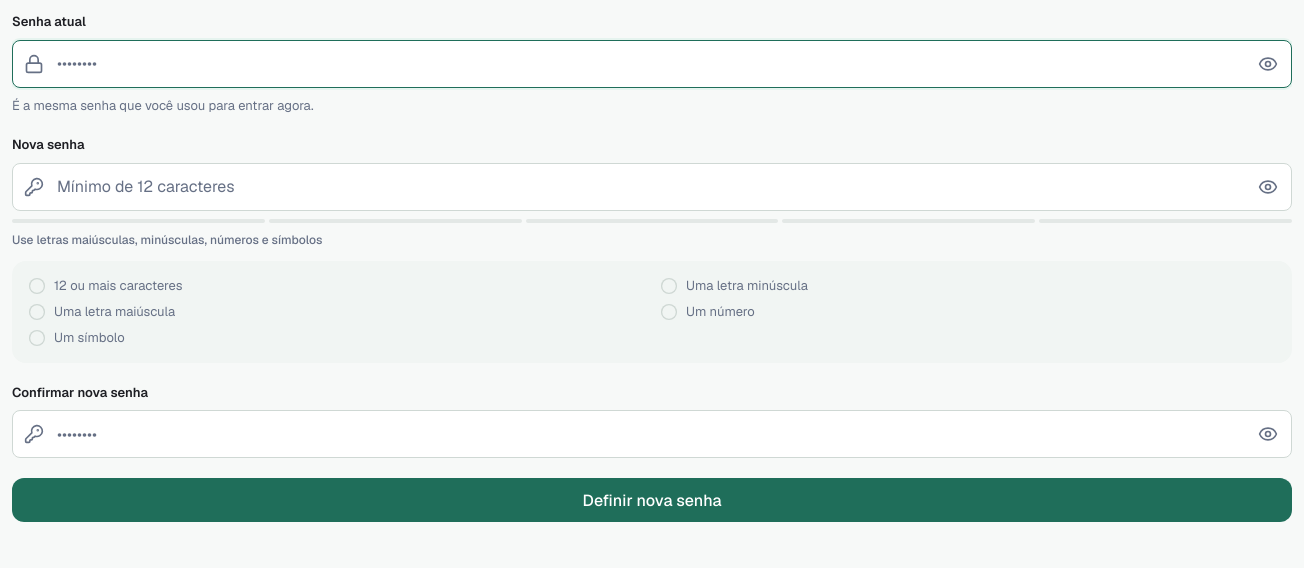
Test: ChangePasswordForm › valida que a confirmação coincide
The image size is (1304, 568).
Type "80275@Suoac" into the password field labelled "Senha atual". click: x=652, y=64
box: [12,40,1292,88]
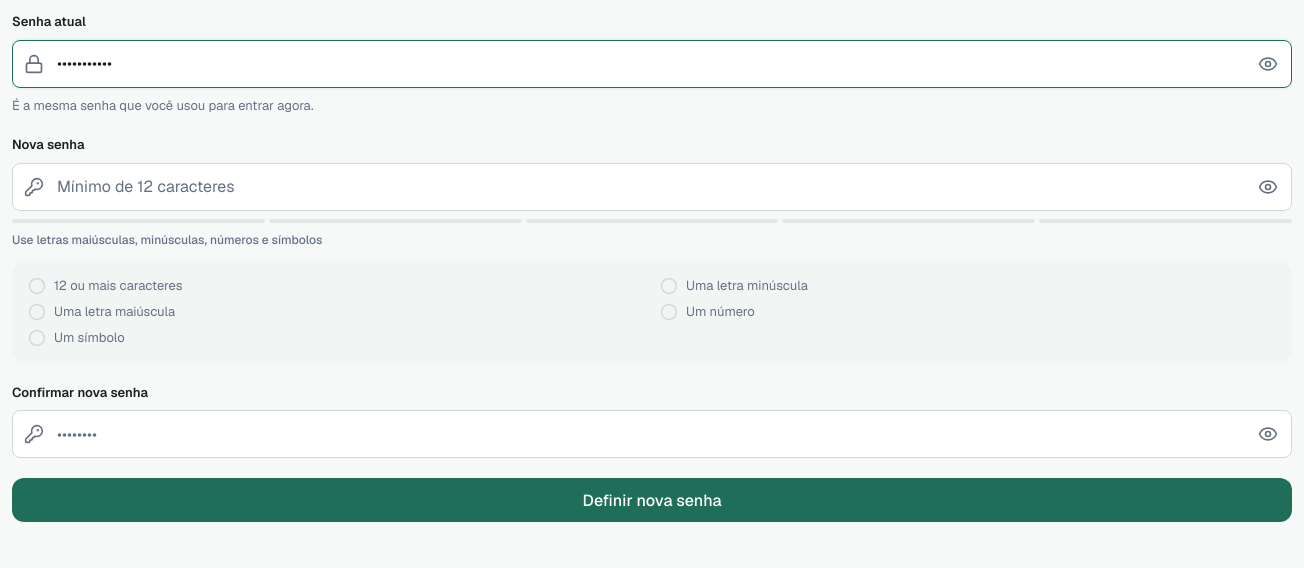
Type "NovaSenha@Forte123" into the password field labelled "Nova senha". click: x=652, y=186
box: [12,162,1292,210]
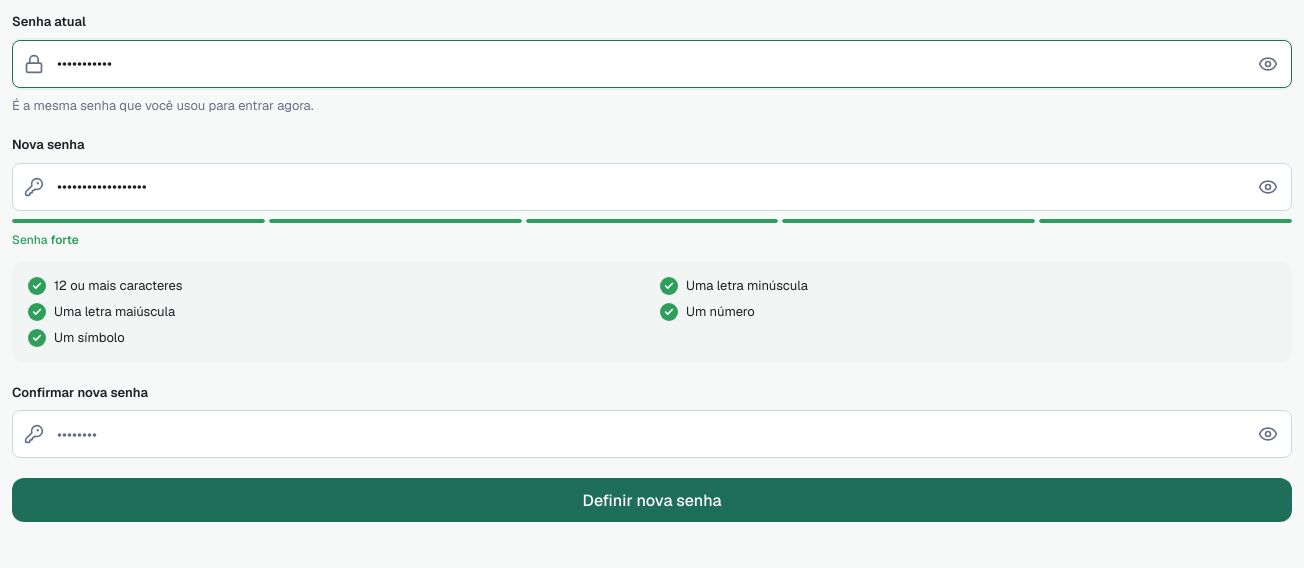
Type "Diferente123" into the password field labelled "Confirmar nova senha". click: x=652, y=434
box: [12,410,1292,458]
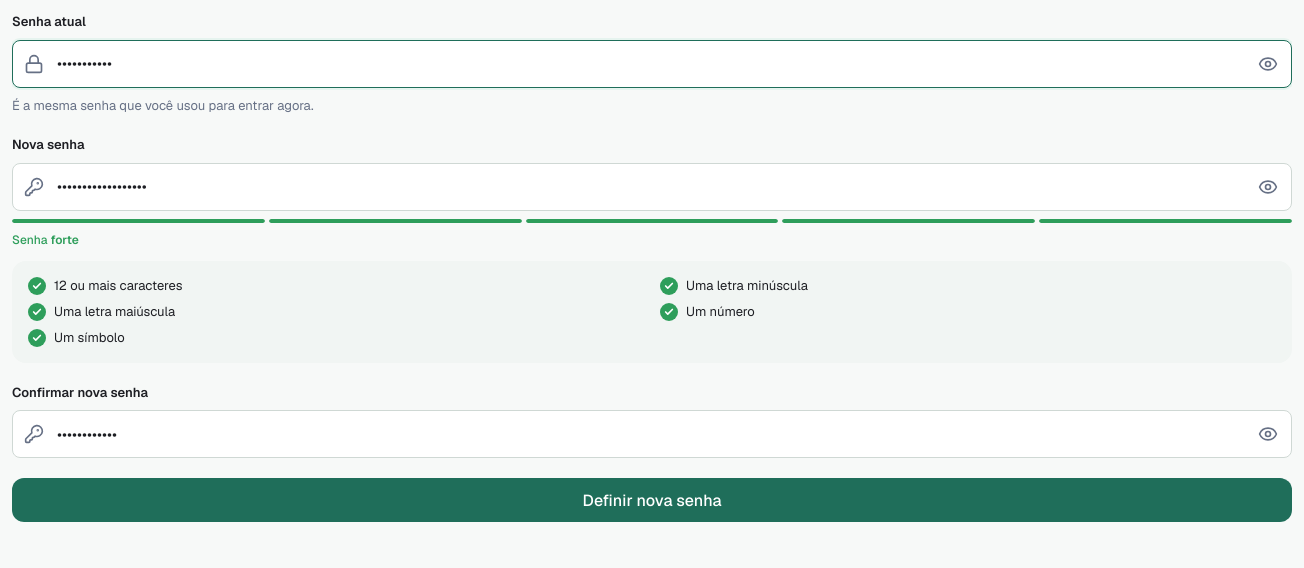
Click the button "Definir nova senha". click: x=652, y=500
box: [12,478,1292,522]
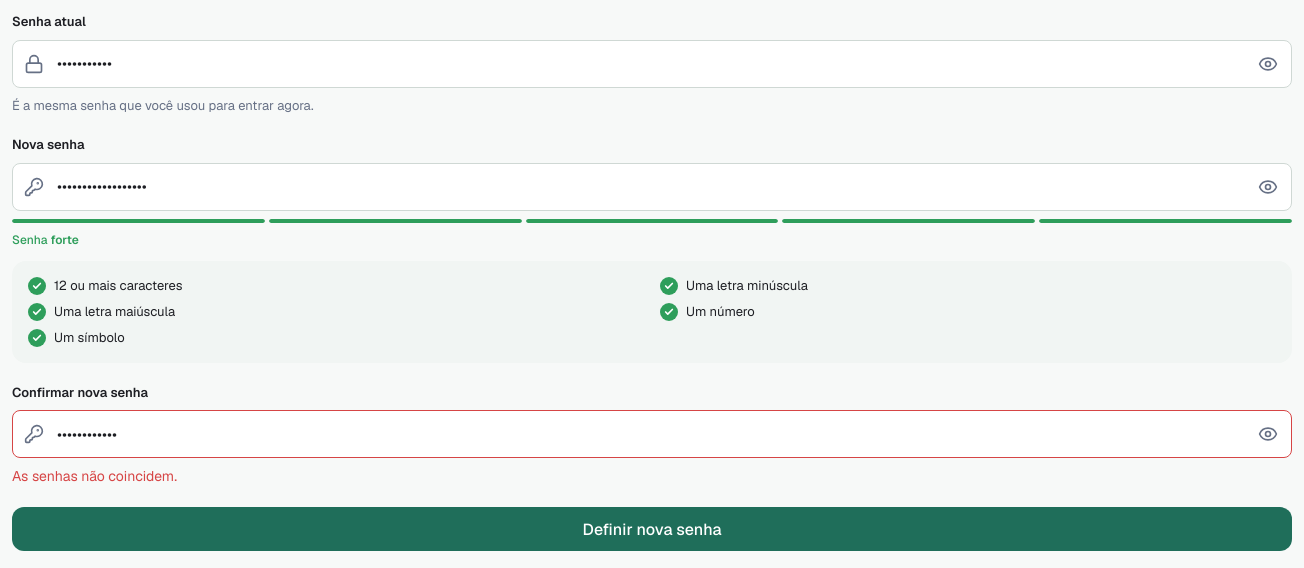
expect the text "As senhas não coincidem." is shown: met, box [12,467,177,485]
